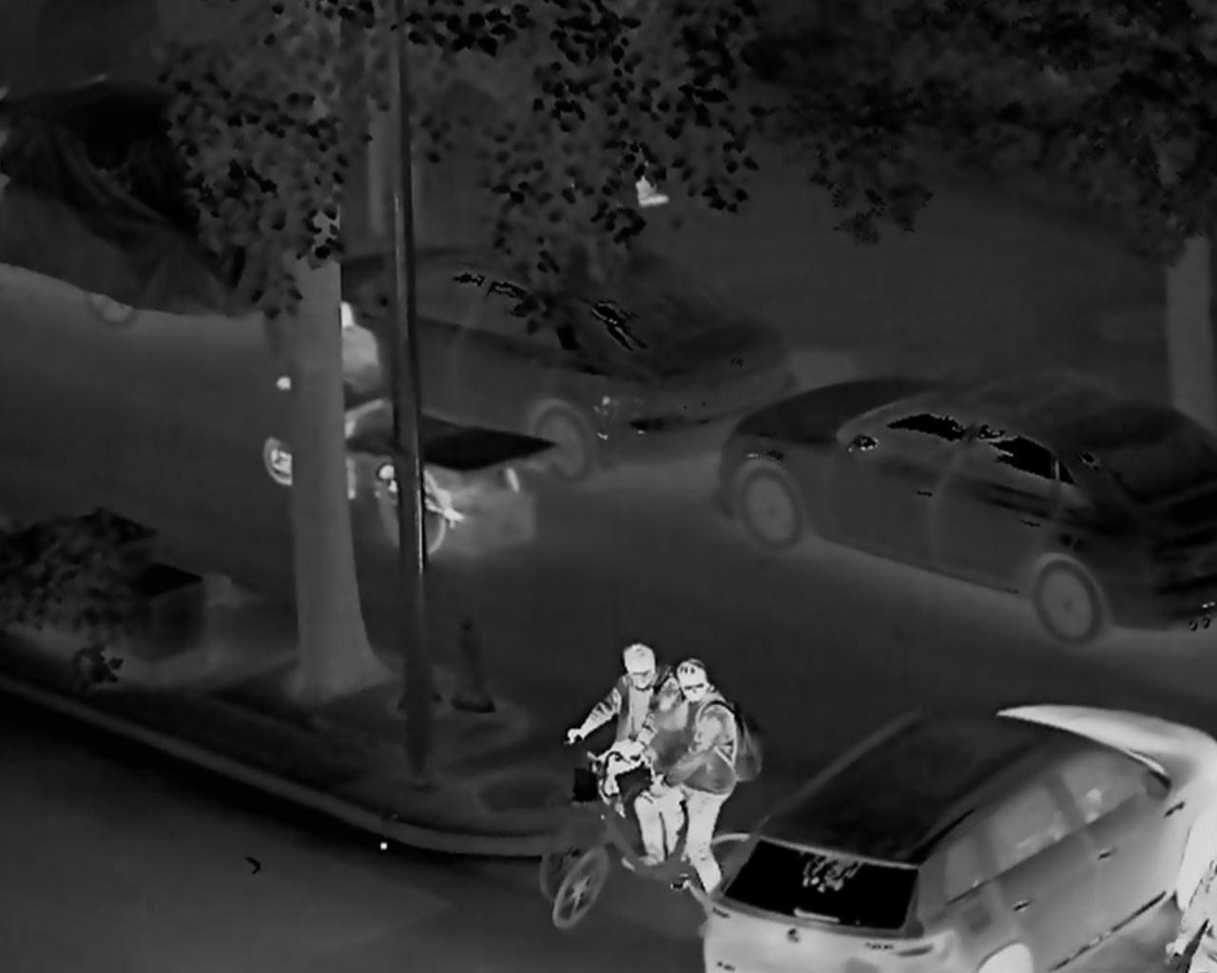person: (633, 651, 755, 925), (564, 633, 680, 863), (294, 276, 386, 454)
